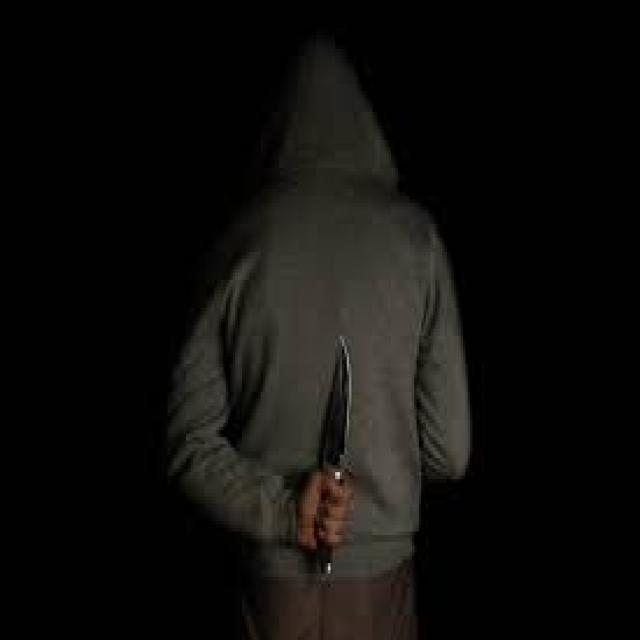faca: (290, 320, 364, 604)
